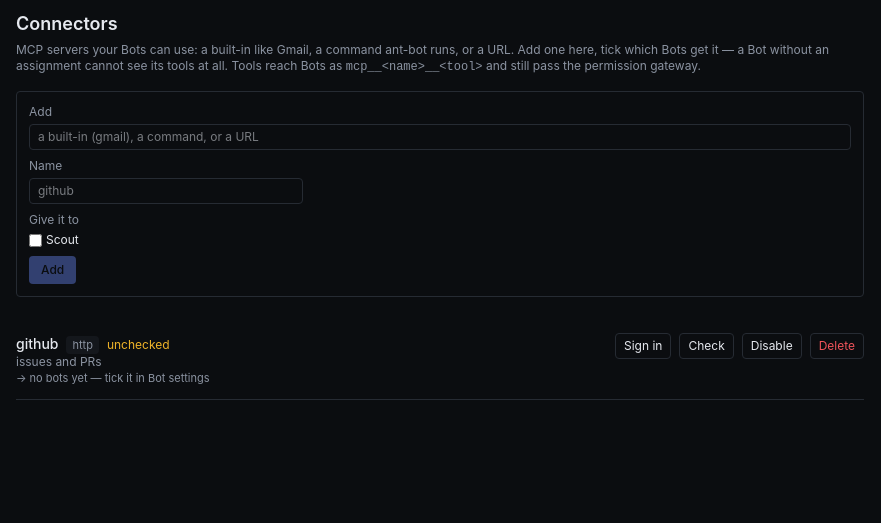
Test: ConnectorsScreen — sign-in › asks for a client when the daemon says the provider will not register ant-bot itself
The image size is (881, 523).
Click the button "Sign in": coordinates (643, 346) [615,333,671,359]
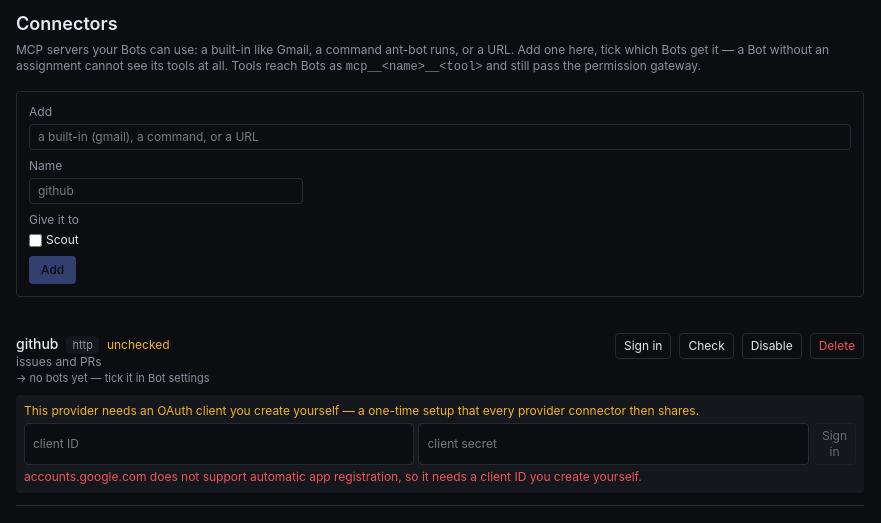
Check: the field with placeholder "client ID" is shown, box [24,422,414,464]
Check: the text "does not support automatic app registration" is shown, box [24,468,642,484]
